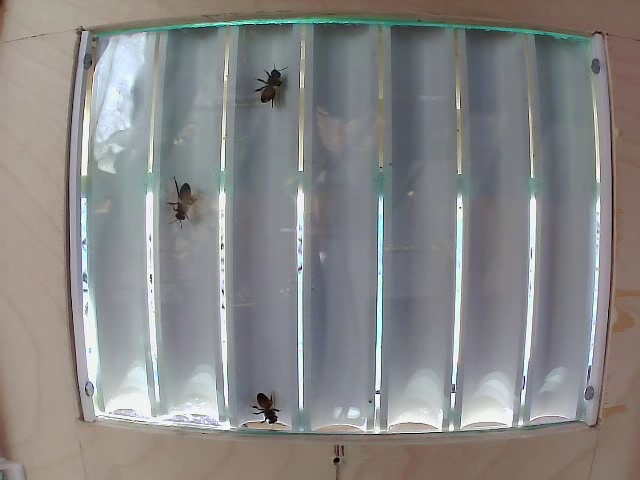bee: (163, 165, 201, 232), (242, 377, 288, 428), (257, 59, 284, 115)
